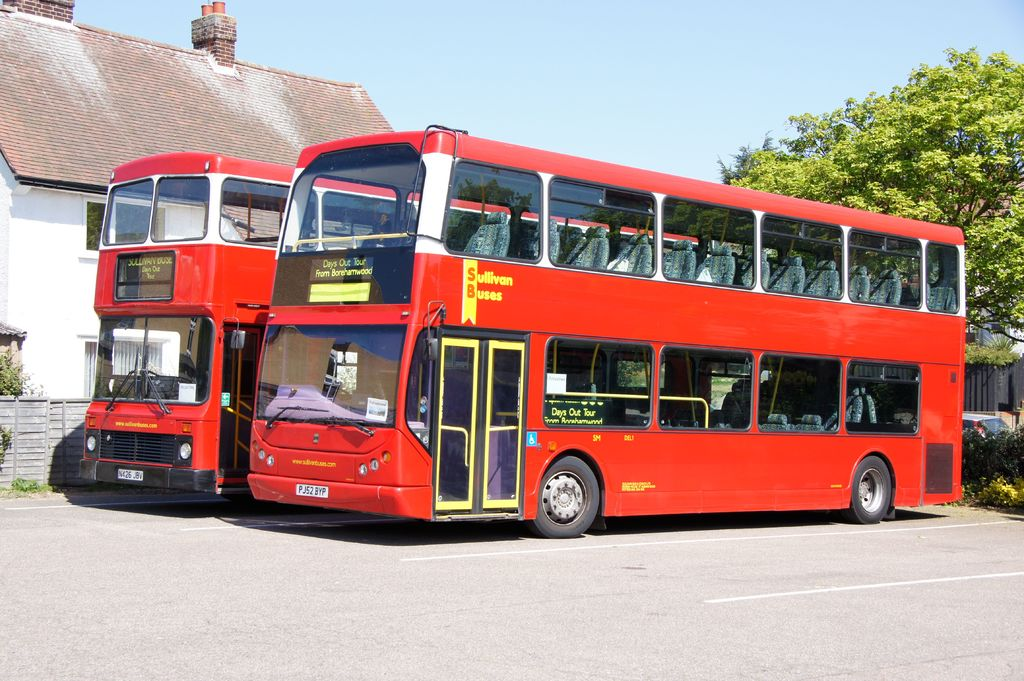Bus: (247, 125, 963, 524), (79, 151, 716, 492)
